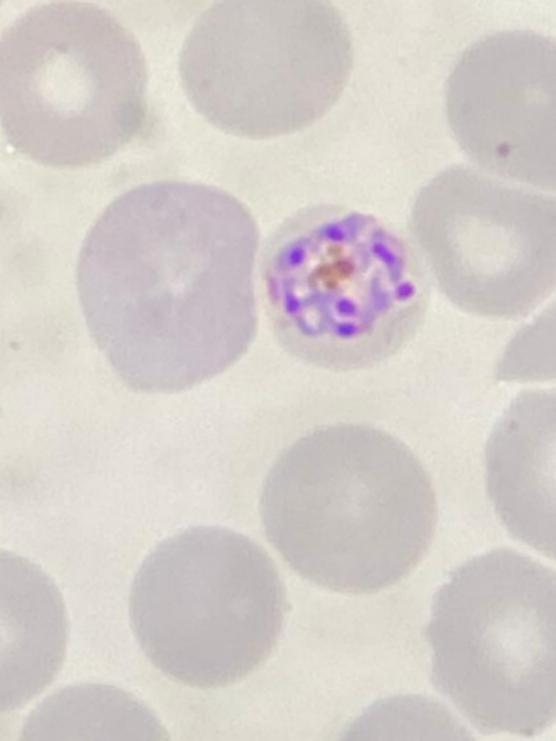Infected: (261, 203, 426, 369)
Uninfected: (66, 185, 259, 400), (258, 424, 435, 594), (127, 526, 283, 687), (0, 1, 147, 165), (178, 0, 350, 140), (426, 549, 553, 731), (409, 168, 553, 320), (444, 28, 553, 194)
